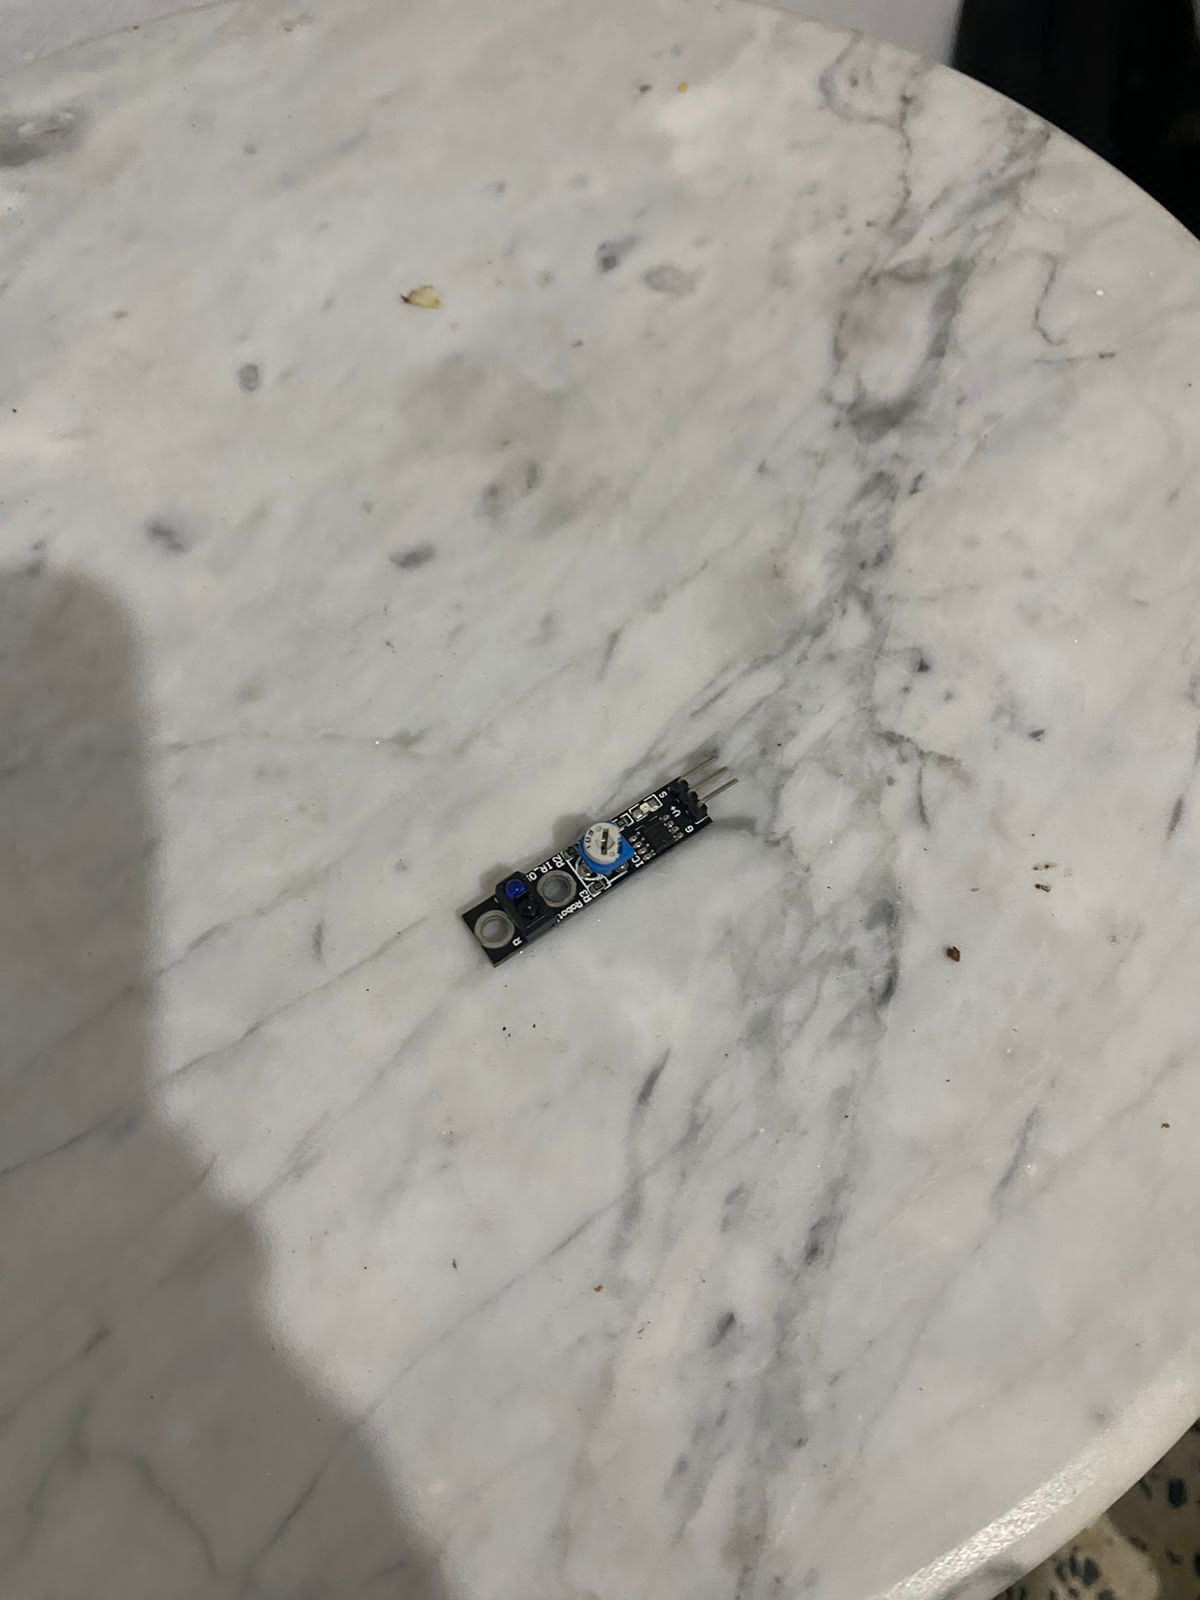ir-sensor: (456, 742, 729, 973)
